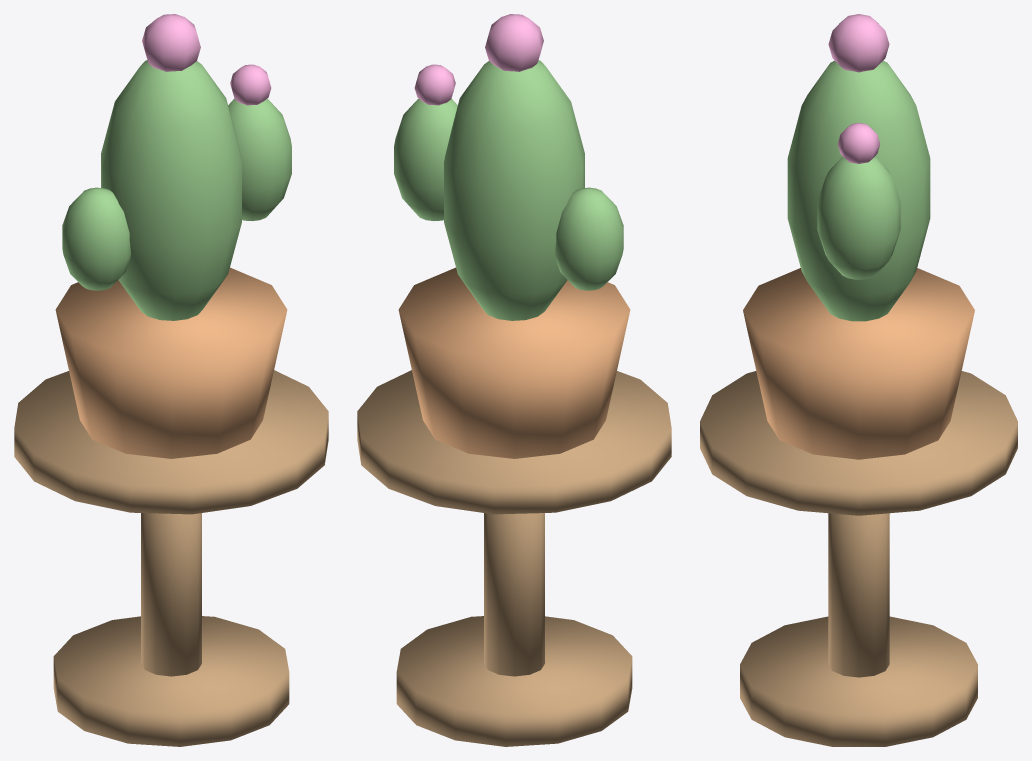
The model's file is home_sv_cactus_v01.glb.
The picture shows the model from 3 angles, left to right: view 1: azimuth 30°, elevation 25°; view 2: azimuth 150°, elevation 25°; view 3: azimuth 270°, elevation 25°; orthographic projection.
Parts seen in each view (by area): view 1: home_sv_cactus_v01; view 2: home_sv_cactus_v01; view 3: home_sv_cactus_v01.
Part boxes in pixels (<box>): home_sv_cactus_v01: <box>14,14,328,746</box>; home_sv_cactus_v01: <box>357,14,671,746</box>; home_sv_cactus_v01: <box>700,14,1017,746</box>.
Bounding box in the file's own units: 0.52 × 1.23 × 0.52.
